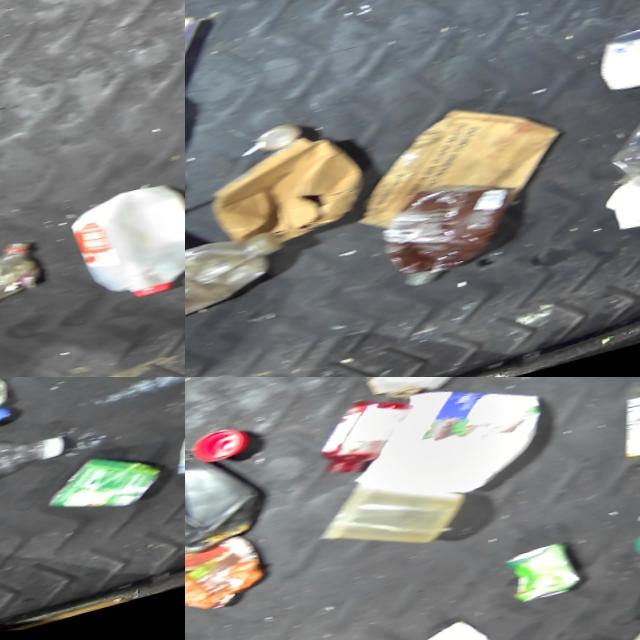can: (41, 446, 169, 536), (503, 540, 589, 612), (592, 23, 640, 106), (252, 119, 307, 158)
milk_jug: (63, 174, 185, 316)
plastic_bottle: (185, 222, 298, 346), (0, 416, 88, 513)
